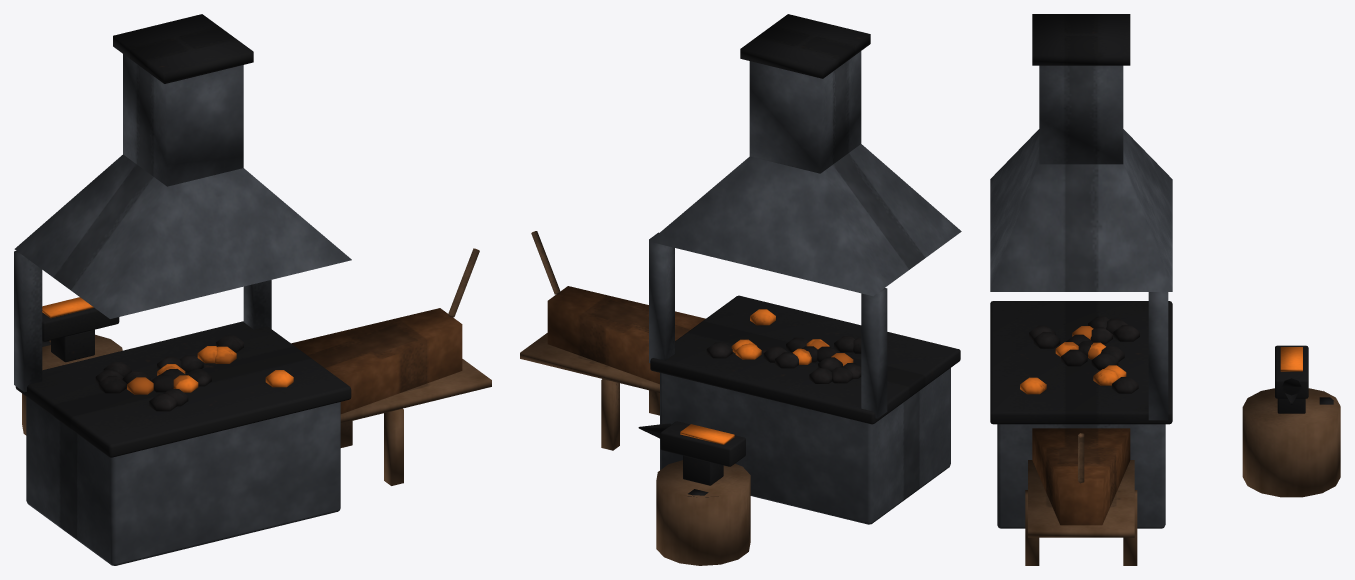
Rendered from forge_anvil.obj.
The picture shows the model from 3 angles, left to right: view 1: azimuth 30°, elevation 25°; view 2: azimuth 150°, elevation 25°; view 3: azimuth 270°, elevation 25°; orthographic projection. The views are drawn at different scales.
Visible parts, largest first — view 1: part0, part1, part4, part5, part2, part6, fire; view 2: part0, part1, part5, part4, part6, part2, fire; view 3: part0, part1, part5, part4, part2, fire, part6.
Part boxes in pixels (x1=…): part0: x1=14, y1=54, x2=351, y2=565; part1: x1=15, y1=14, x2=351, y2=457; part4: x1=291, y1=308, x2=462, y2=413; part5: x1=22, y1=248, x2=491, y2=485; part2: x1=95, y1=335, x2=243, y2=411; part6: x1=42, y1=307, x2=119, y2=362; fire: x1=42, y1=297, x2=293, y2=394; part0: x1=649, y1=51, x2=961, y2=524; part1: x1=650, y1=14, x2=960, y2=424; part5: x1=520, y1=231, x2=750, y2=565; part4: x1=547, y1=286, x2=705, y2=384; part6: x1=638, y1=421, x2=745, y2=497; part2: x1=706, y1=336, x2=861, y2=383; fire: x1=680, y1=309, x2=853, y2=444; part0: x1=990, y1=65, x2=1172, y2=528; part1: x1=990, y1=14, x2=1172, y2=424; part5: x1=1025, y1=388, x2=1340, y2=565; part4: x1=1032, y1=428, x2=1130, y2=525; part2: x1=1029, y1=316, x2=1139, y2=393; fire: x1=1020, y1=326, x2=1302, y2=394; part6: x1=1275, y1=345, x2=1333, y2=413.
Size of the model in its own units: 3.29 by 3.48 by 2.5.
